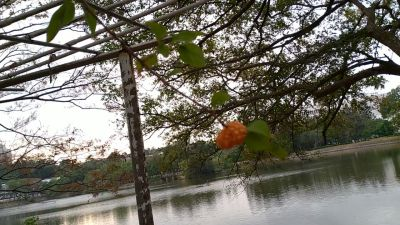eggs: (214, 120, 249, 150)
